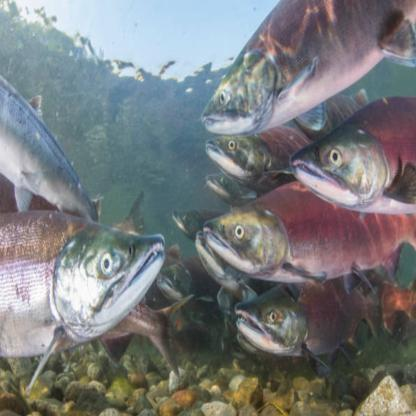sockeye: (205, 0, 413, 115), (207, 190, 416, 291), (0, 226, 164, 347), (307, 89, 415, 201), (237, 281, 386, 360), (199, 121, 318, 199)
sockeye-group: (194, 6, 416, 371)
